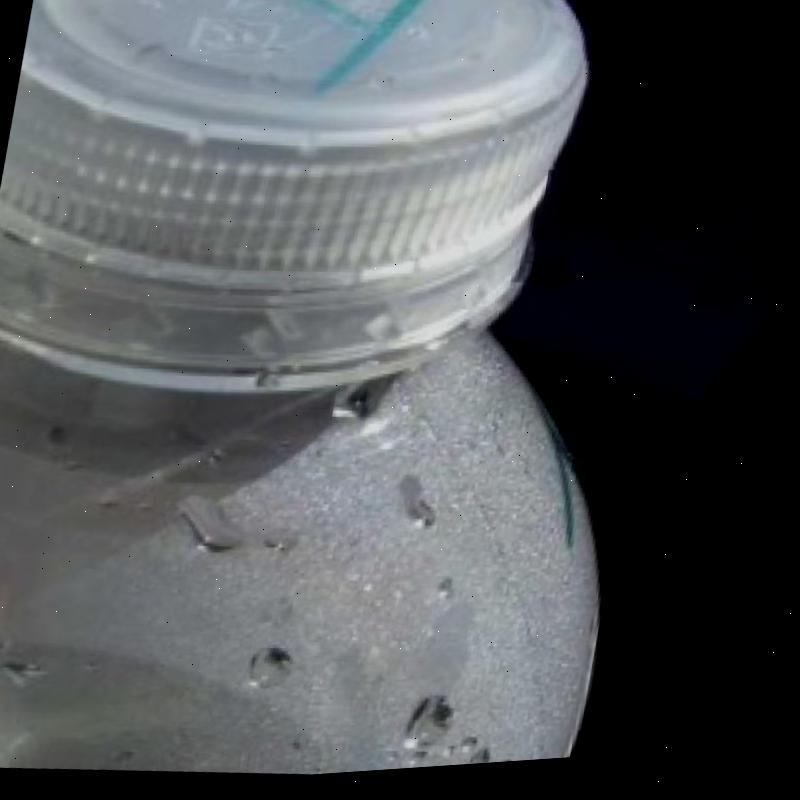botella: (0, 0, 723, 800)
